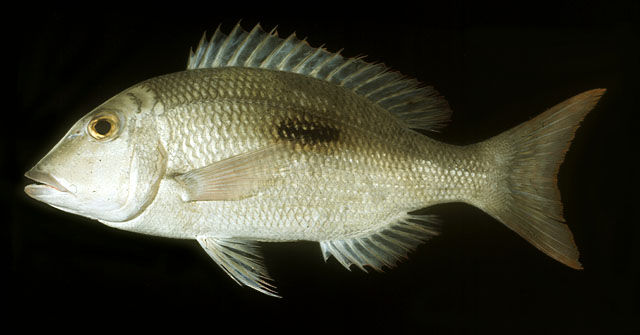fish: (22, 21, 607, 302)
